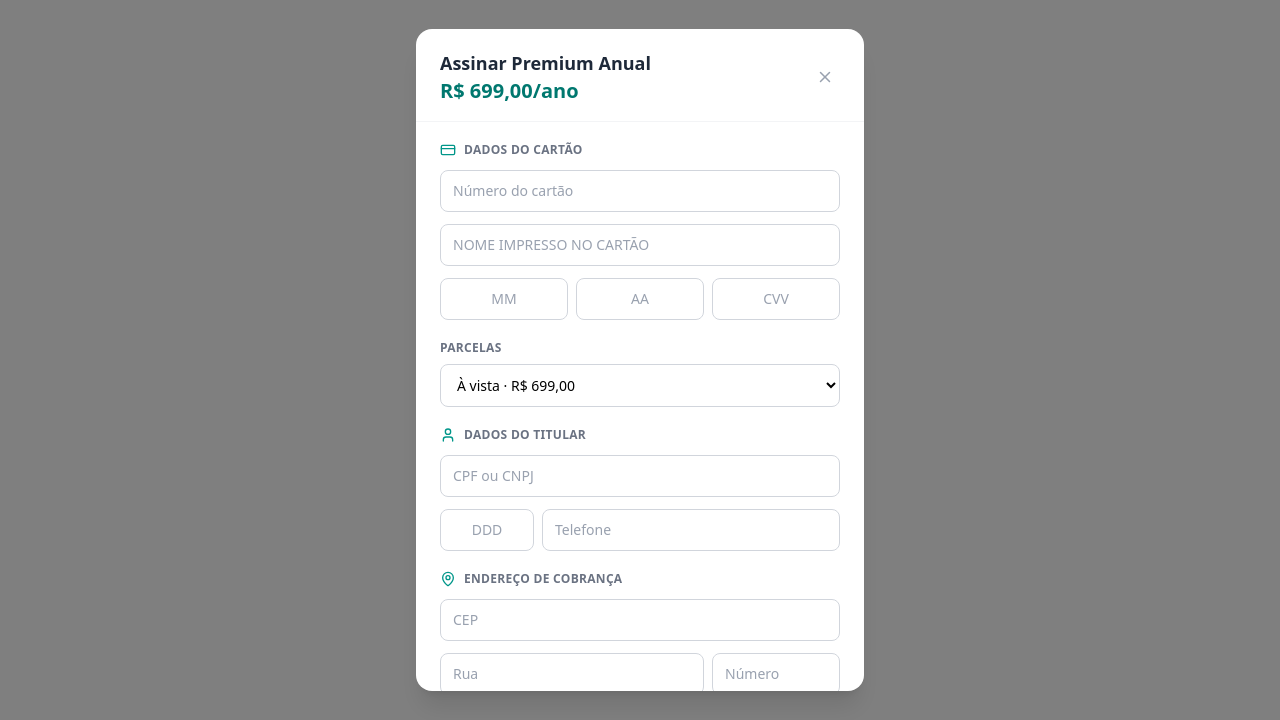
Formulário de pagamento › não envia com campos obrigatórios vazios
Step 1. Type "4111111111111111" into the field with placeholder "Número do cartão" → {"x": 640, "y": 191}, box [440, 170, 840, 212]
(page scrolled)
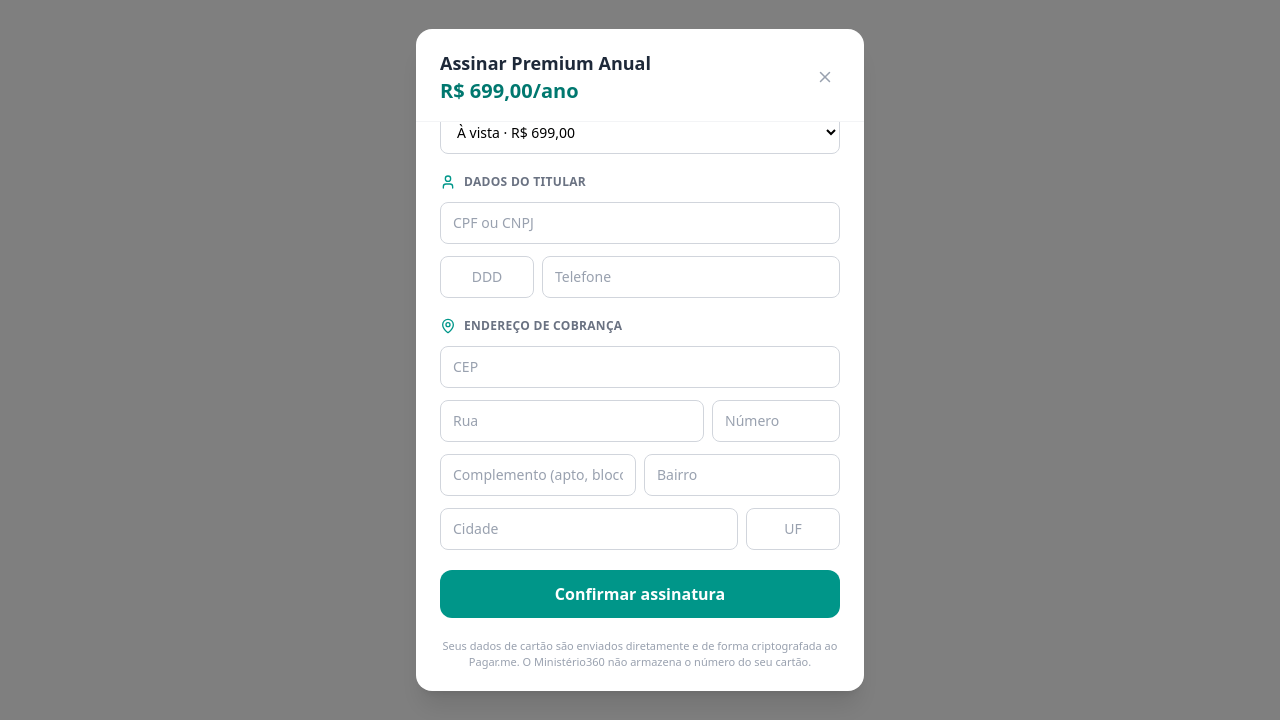
Step 2. Click the button "Confirmar assinatura" → {"x": 640, "y": 594}, box [440, 570, 840, 618]
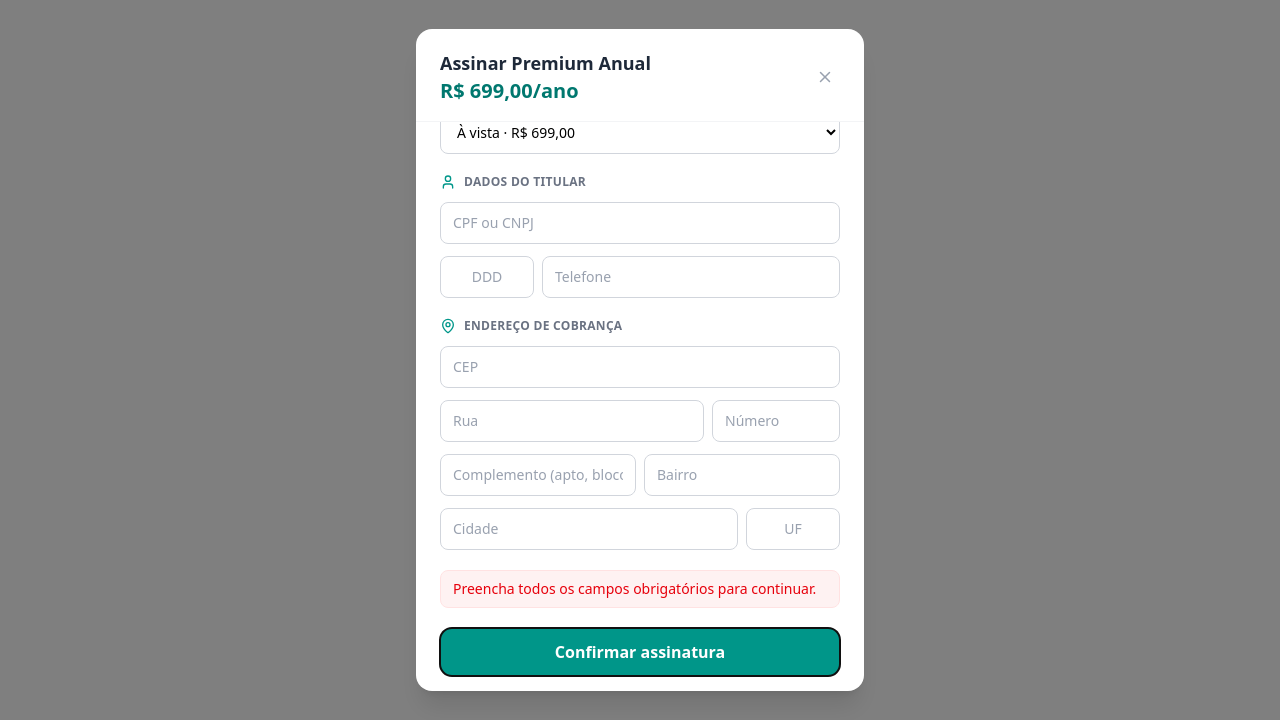
expect the text "Preencha todos os campos obrigatórios para continuar." is shown: met, box [440, 570, 840, 608]
